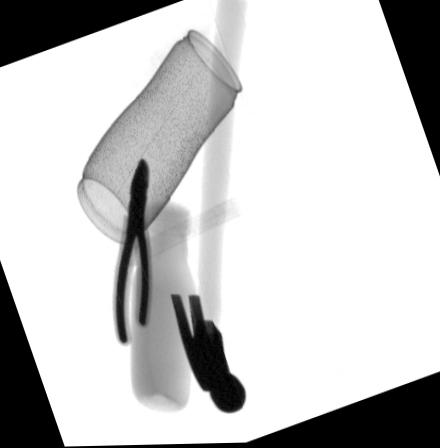Hammer: (168, 0, 246, 418)
Pliers: (111, 160, 152, 348)
